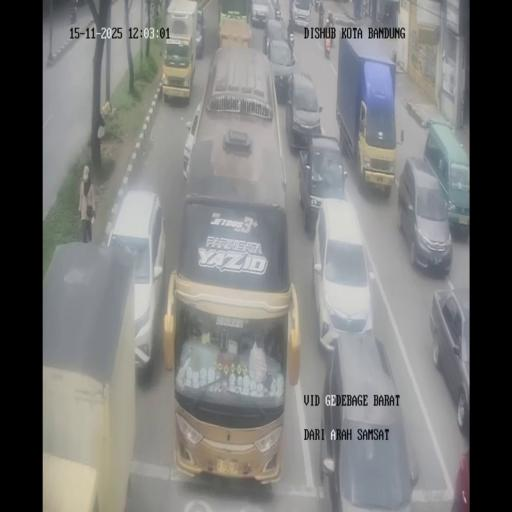car: (320, 330, 417, 510), (104, 190, 165, 370), (398, 157, 453, 273), (430, 288, 470, 436), (298, 133, 346, 235), (286, 72, 324, 150), (264, 30, 296, 99), (182, 102, 202, 181), (290, 0, 312, 31), (249, 0, 269, 27), (196, 9, 204, 58)
motorcycle: (288, 30, 295, 59), (318, 2, 324, 28), (70, 3, 77, 24), (383, 10, 391, 25), (275, 5, 281, 21), (376, 10, 382, 22), (310, 0, 314, 12)
truck: (166, 45, 298, 483), (336, 37, 396, 197), (162, 0, 201, 102), (218, 0, 250, 45)
